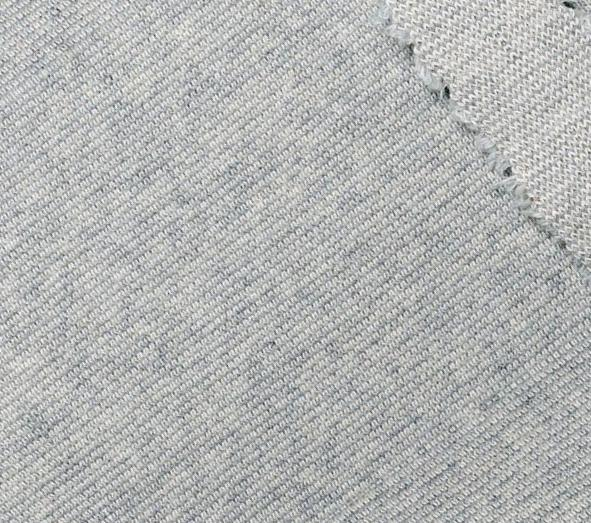slub: (373, 0, 591, 277)
